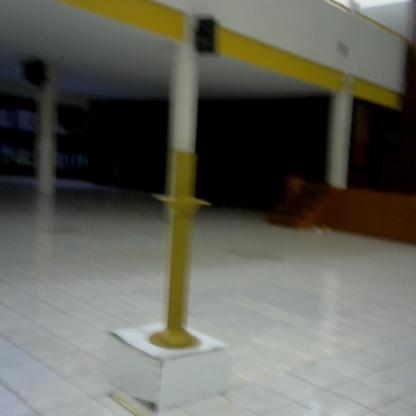pole: (144, 143, 216, 359)
